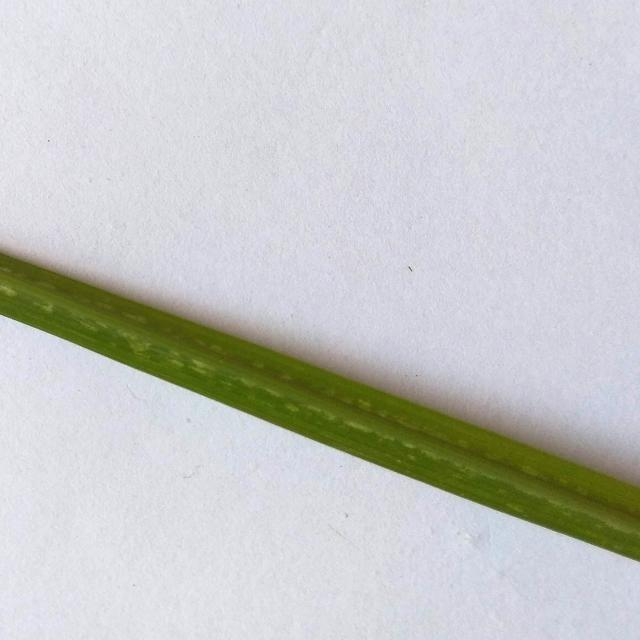Rice_Healthy: (0, 253, 640, 560)
